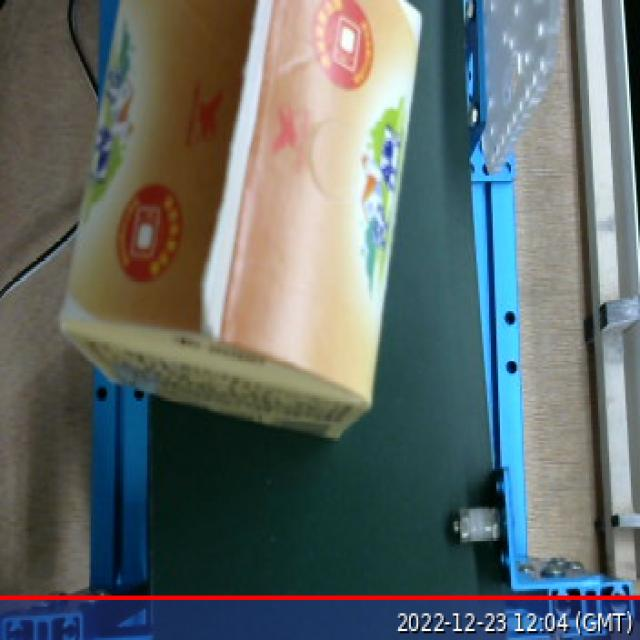non_white_jug: (58, 0, 439, 442)
